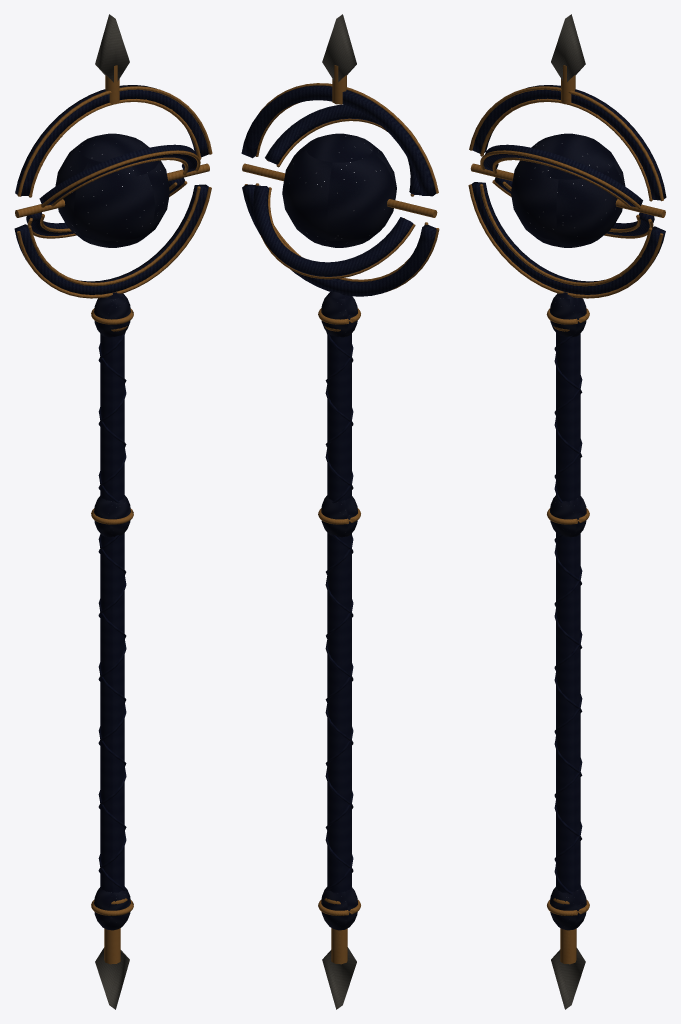
File: stowed.glb
3 renders of one model, left to right at view 1: azimuth 30°, elevation 25°; view 2: azimuth 150°, elevation 25°; view 3: azimuth 330°, elevation 25°, orthographic.
Visible parts, largest first — view 1: Indigo_grip_carried_snapshot, Astrolabe_starstone_carried_snapshot, Split_astrolabe_band.001_carried_snapshot, Split_astrolabe_band_carried_snapshot, Split_astrolabe_band.002_carried_snapshot, Steel_pointed_finial.001_carried_snapshot, Indigo_wrap.001_carried_snapshot, Indigo_wrap_carried_snapshot, Starstone_collar.002_carried_snapshot, Astrolabe_brass_arc_rim.003_carried_snapshot, Astrolabe_brass_arc_rim.001_carried_snapshot, Steel_pointed_finial_carried_snapshot (+8 smaller); view 2: Indigo_grip_carried_snapshot, Astrolabe_starstone_carried_snapshot, Split_astrolabe_band_carried_snapshot, Split_astrolabe_band.003_carried_snapshot, Split_astrolabe_band.001_carried_snapshot, Split_astrolabe_band.002_carried_snapshot, Steel_pointed_finial.001_carried_snapshot, Starstone_collar.002_carried_snapshot, Indigo_wrap_carried_snapshot, Indigo_wrap.001_carried_snapshot, Steel_pointed_finial_carried_snapshot, Starstone_collar.001_carried_snapshot (+5 smaller); view 3: Indigo_grip_carried_snapshot, Astrolabe_starstone_carried_snapshot, Split_astrolabe_band.001_carried_snapshot, Split_astrolabe_band_carried_snapshot, Split_astrolabe_band.002_carried_snapshot, Steel_pointed_finial.001_carried_snapshot, Starstone_collar.002_carried_snapshot, Astrolabe_brass_arc_rim.003_carried_snapshot, Astrolabe_brass_arc_rim.001_carried_snapshot, Steel_pointed_finial_carried_snapshot, Indigo_wrap.001_carried_snapshot, Starstone_collar.001_carried_snapshot (+8 smaller).
Boxes of the visible parts, x1,y1,x2,y2 form: Indigo_grip_carried_snapshot: (100, 334, 124, 893); Astrolabe_starstone_carried_snapshot: (55, 133, 169, 247); Split_astrolabe_band.001_carried_snapshot: (14, 184, 208, 294); Split_astrolabe_band_carried_snapshot: (15, 85, 208, 196); Split_astrolabe_band.002_carried_snapshot: (39, 144, 197, 205); Steel_pointed_finial.001_carried_snapshot: (95, 14, 129, 82); Indigo_wrap.001_carried_snapshot: (98, 331, 126, 872); Indigo_wrap_carried_snapshot: (98, 343, 126, 890); Starstone_collar.002_carried_snapshot: (94, 292, 130, 337); Astrolabe_brass_arc_rim.003_carried_snapshot: (17, 187, 211, 298); Astrolabe_brass_arc_rim.001_carried_snapshot: (17, 86, 212, 196); Steel_pointed_finial_carried_snapshot: (95, 947, 129, 1009); Indigo_grip_carried_snapshot: (327, 333, 351, 893); Astrolabe_starstone_carried_snapshot: (282, 133, 396, 247); Split_astrolabe_band_carried_snapshot: (241, 85, 436, 196); Split_astrolabe_band.003_carried_snapshot: (253, 185, 413, 276); Split_astrolabe_band.001_carried_snapshot: (242, 184, 436, 296); Split_astrolabe_band.002_carried_snapshot: (265, 104, 421, 195); Steel_pointed_finial.001_carried_snapshot: (322, 14, 356, 81); Starstone_collar.002_carried_snapshot: (321, 292, 357, 337); Indigo_wrap_carried_snapshot: (325, 331, 353, 872); Indigo_wrap.001_carried_snapshot: (325, 344, 353, 890); Steel_pointed_finial_carried_snapshot: (322, 947, 356, 1009); Starstone_collar.001_carried_snapshot: (321, 495, 357, 537); Indigo_grip_carried_snapshot: (556, 333, 580, 892); Astrolabe_starstone_carried_snapshot: (511, 133, 625, 247); Split_astrolabe_band.001_carried_snapshot: (471, 182, 665, 294); Split_astrolabe_band_carried_snapshot: (472, 85, 666, 200); Split_astrolabe_band.002_carried_snapshot: (483, 144, 642, 207); Steel_pointed_finial.001_carried_snapshot: (551, 14, 585, 81); Starstone_collar.002_carried_snapshot: (550, 292, 586, 337); Astrolabe_brass_arc_rim.003_carried_snapshot: (468, 184, 663, 298); Astrolabe_brass_arc_rim.001_carried_snapshot: (469, 86, 663, 201); Steel_pointed_finial_carried_snapshot: (551, 948, 585, 1009); Indigo_wrap.001_carried_snapshot: (554, 335, 582, 888); Starstone_collar.001_carried_snapshot: (550, 495, 586, 537).
Bounding box in the file's own units: 0.4787 × 2.33 × 0.2814.
5 materials, 5 textured.
